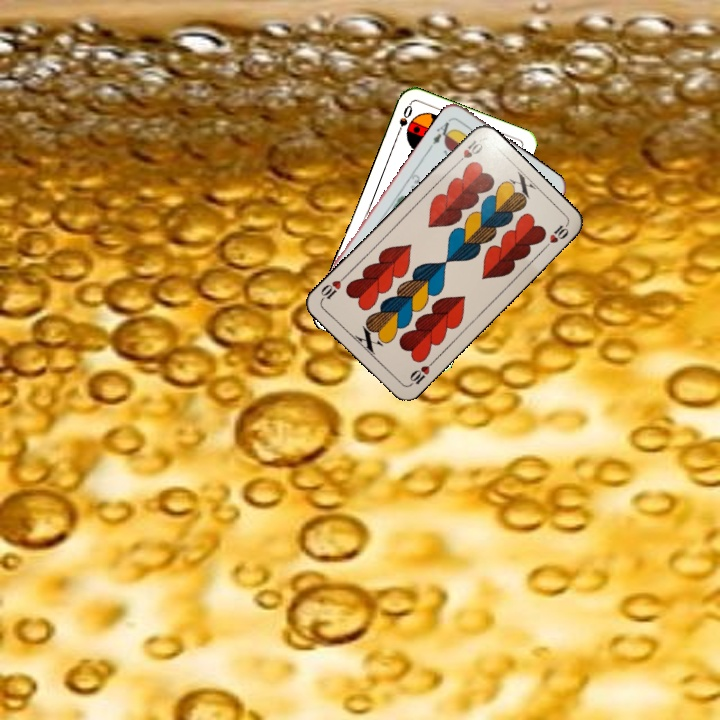EA: (425, 115, 457, 151)
H10: (451, 135, 486, 169), (405, 356, 437, 388)
SO: (392, 100, 415, 139)
